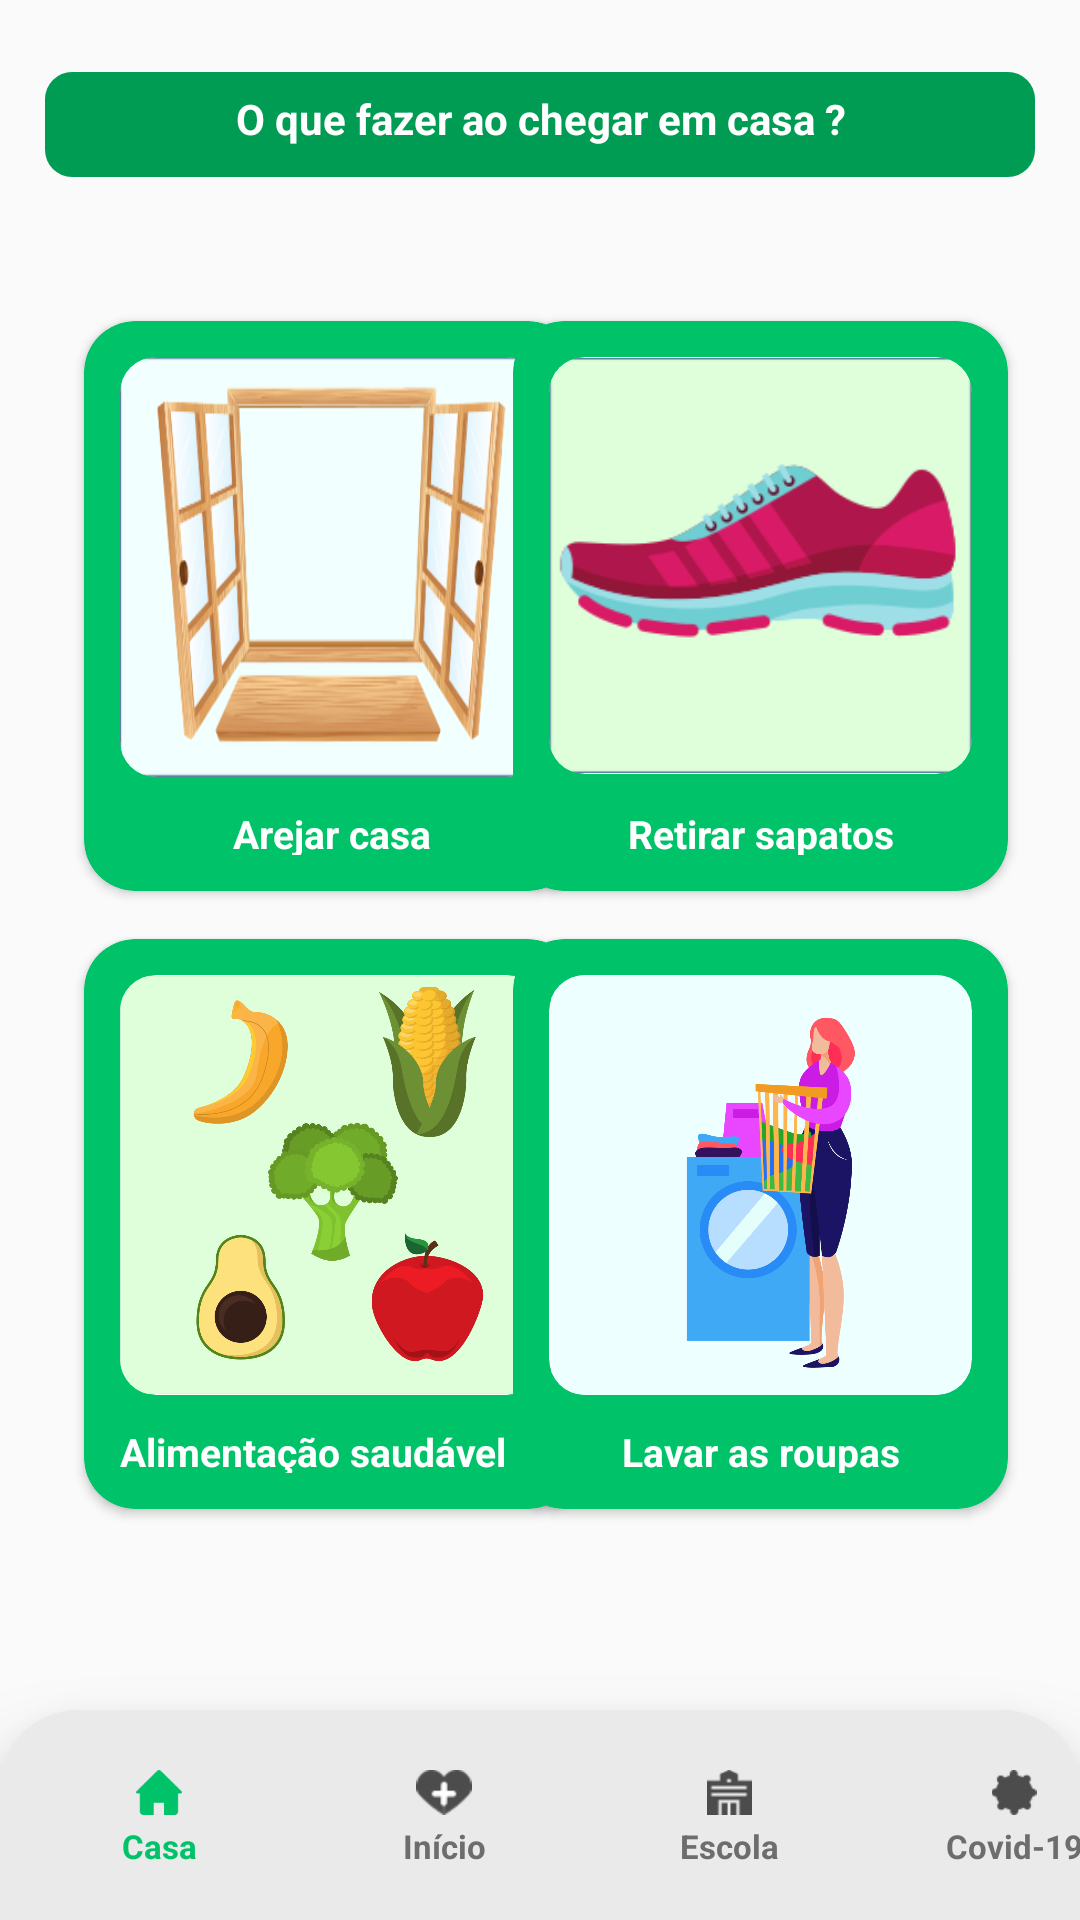

Icons on this 1080x1920 Android screen, each with its box as {"left": x1, "top": y1, "right": x2, "bottom": y2}:
saude: {"left": 416, "top": 1770, "right": 472, "bottom": 1815}
